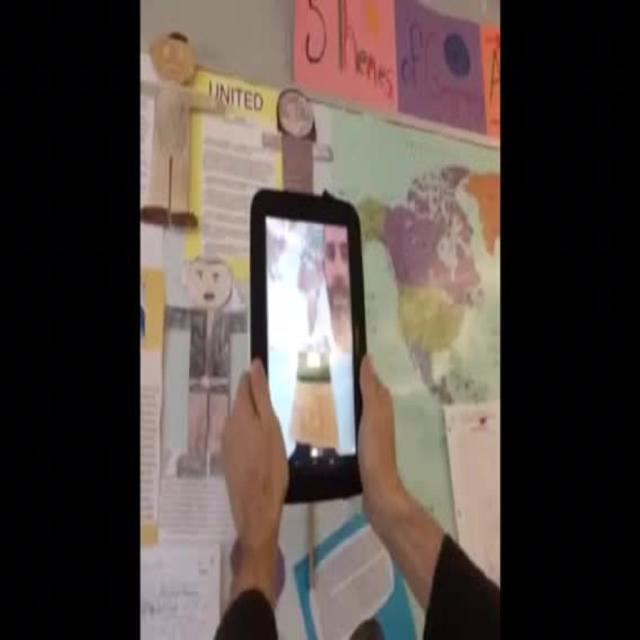Mobile-phone: (251, 174, 371, 520)
